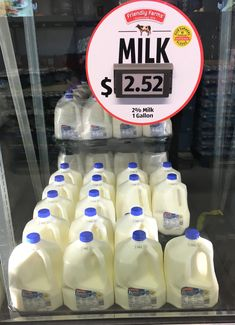milk: (9, 231, 62, 311), (63, 231, 113, 311), (115, 230, 165, 309), (117, 174, 151, 219)
